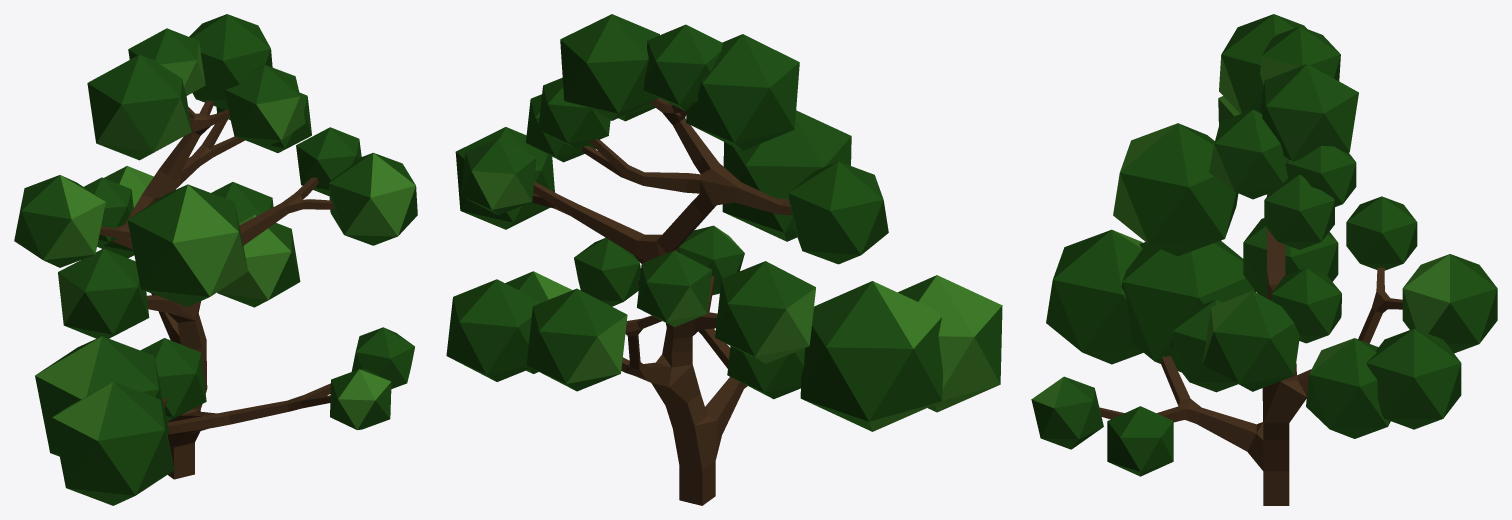
Rendered from BaumVerzweigt.fbx.
3 renders of one model, left to right at view 1: azimuth 30°, elevation 25°; view 2: azimuth 150°, elevation 25°; view 3: azimuth 270°, elevation 25°, orthographic. The views are drawn at different scales.
Parts seen in each view (by area): view 1: Baum1; view 2: Baum1; view 3: Baum1.
Part boxes in pixels (x1,y1,x2,y2): Baum1: (14, 14, 417, 505); Baum1: (446, 14, 1002, 505); Baum1: (1031, 14, 1497, 505).
Bounding box in the file's own units: 192 × 193 × 172.
